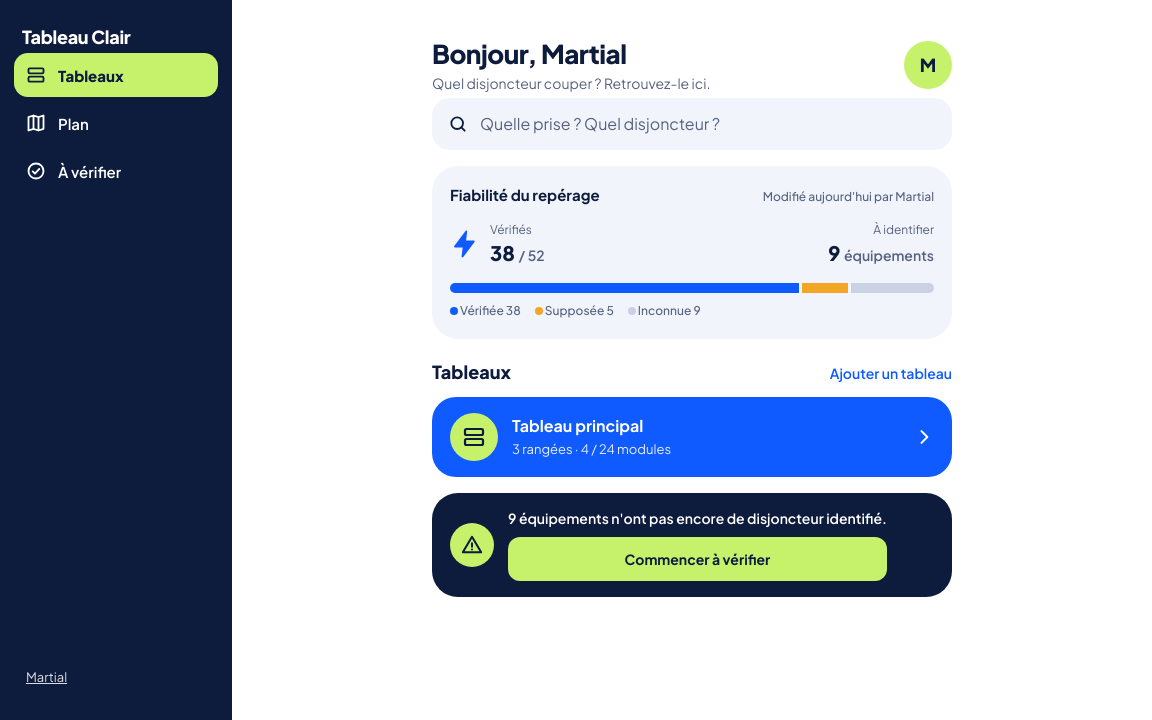
Test case: Recherche › revient au tableau de bord quand la recherche est effacée
The width and height of the screenshot is (1152, 720).
Expected: the element "Fiabilité du repérage" is shown, left=432, top=166, right=952, bottom=339
Step 1. Type "prise" into the search field named "Rechercher" → (707, 124), box left=478, top=112, right=936, bottom=136
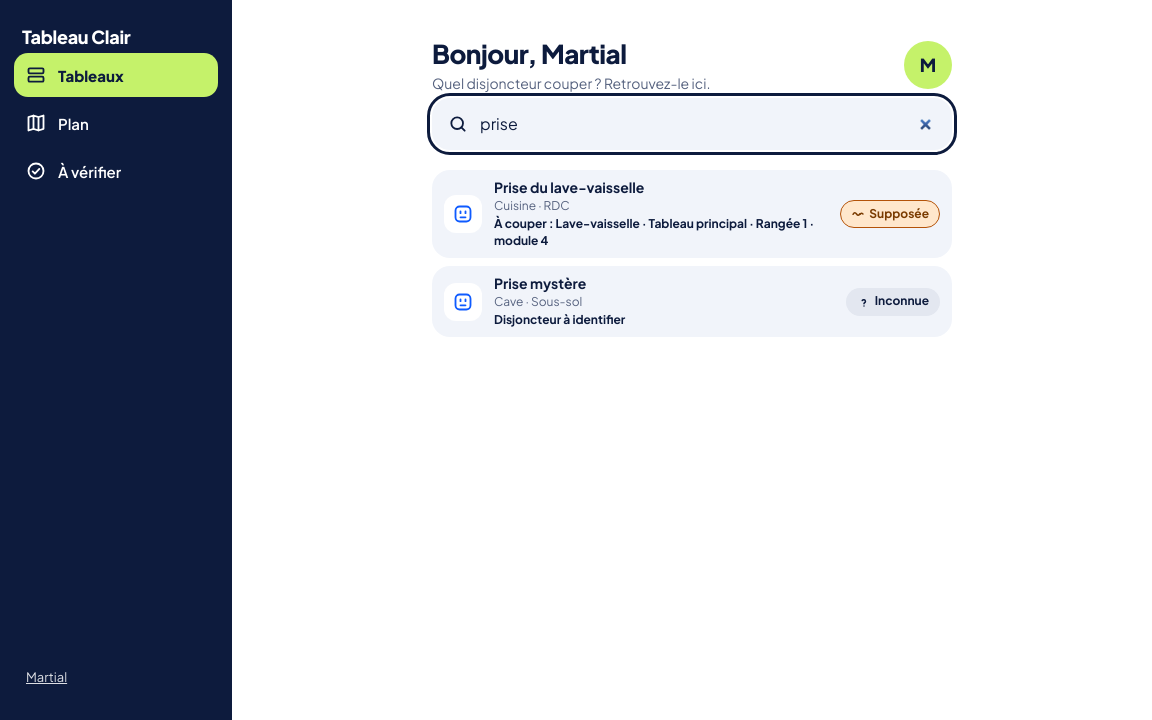
Expected: the list named "Résultats de la recherche" is shown, left=432, top=170, right=952, bottom=337
Step 2. Clear the search field named "Rechercher" → (707, 124), box left=478, top=112, right=936, bottom=136
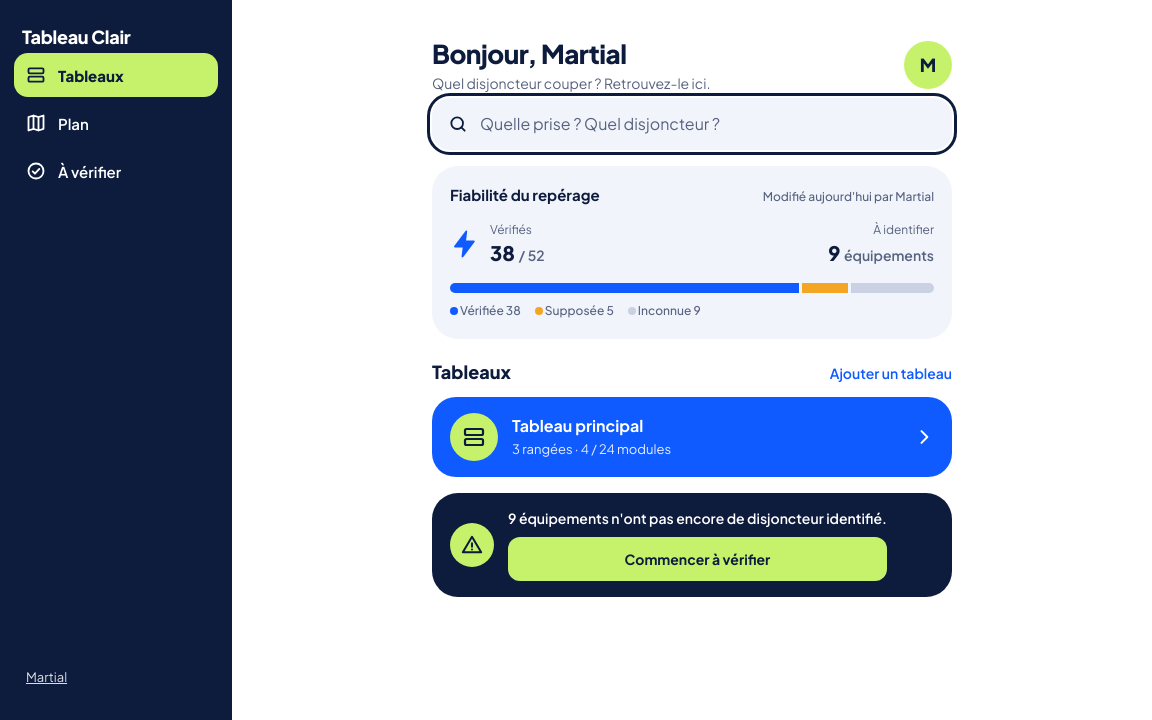
Expected: the element "Fiabilité du repérage" is shown, left=432, top=166, right=952, bottom=339
